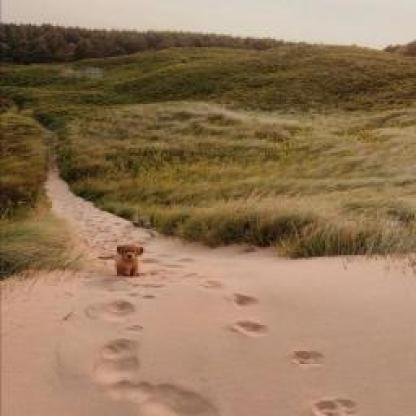dog: (96, 241, 144, 277)
